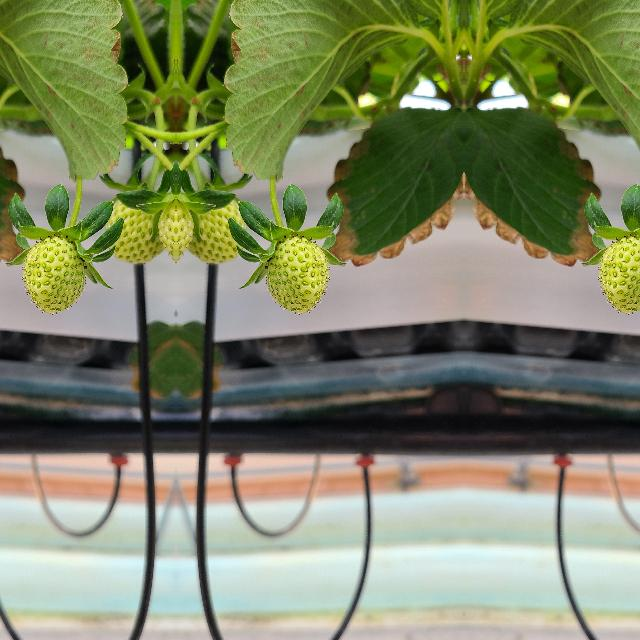Health_25: (265, 238, 327, 312), (23, 238, 85, 312), (194, 192, 238, 264), (112, 192, 156, 264), (599, 237, 640, 312)
